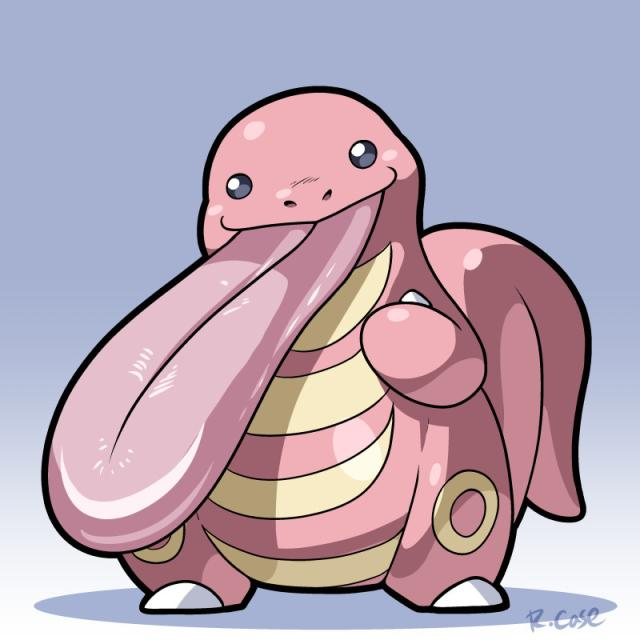Lickitung: (39, 88, 523, 621)
